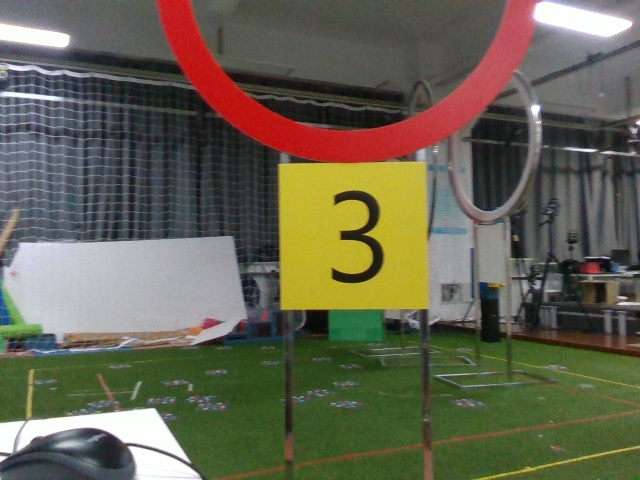target: (283, 168, 417, 308)
